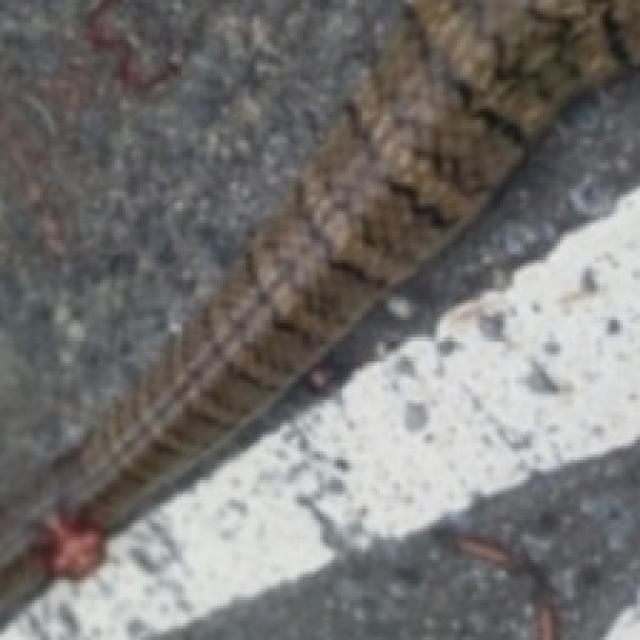king cobra: (0, 0, 637, 563), (540, 346, 617, 460), (474, 426, 540, 469)
